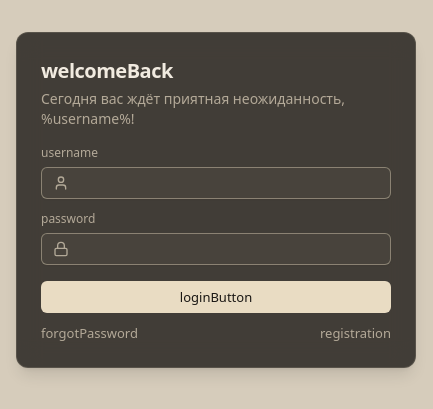
Login validation › asks for both fields instead of sending an empty request
Click the button "loginButton" at [216, 297], box [41,281,391,313]
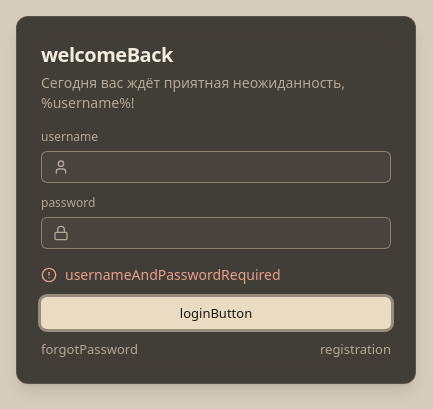
Expected: the message reads "usernameAndPasswordRequired", [65,265,280,284]
